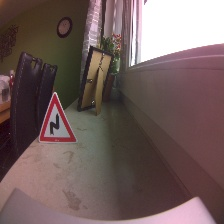vorsicht: (37, 91, 79, 144)
